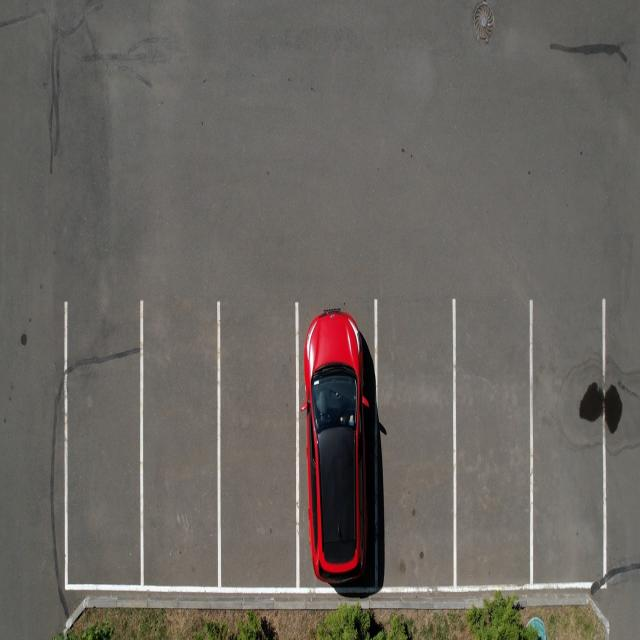space-empty: (451, 298, 534, 588), (139, 300, 221, 588), (218, 300, 300, 588), (377, 293, 457, 586), (63, 302, 144, 590), (528, 297, 608, 586)
space-occupied: (297, 300, 376, 584)
